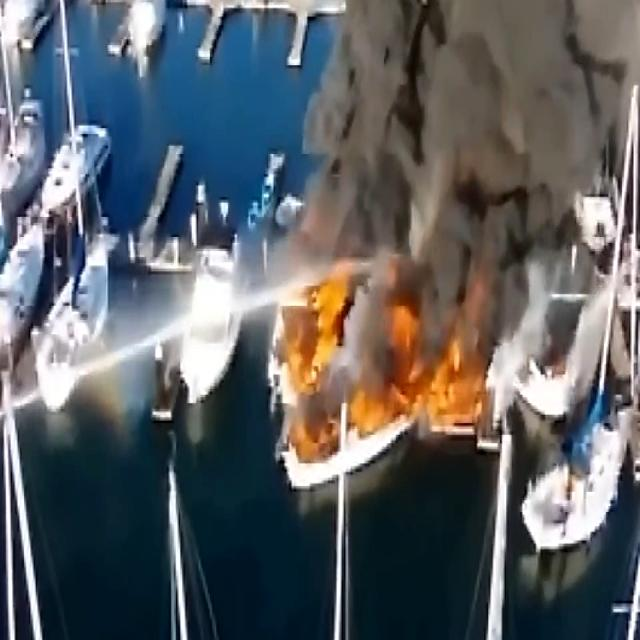fire: (279, 273, 370, 401), (396, 330, 456, 418)
smoke: (426, 0, 630, 146), (349, 0, 560, 95)
